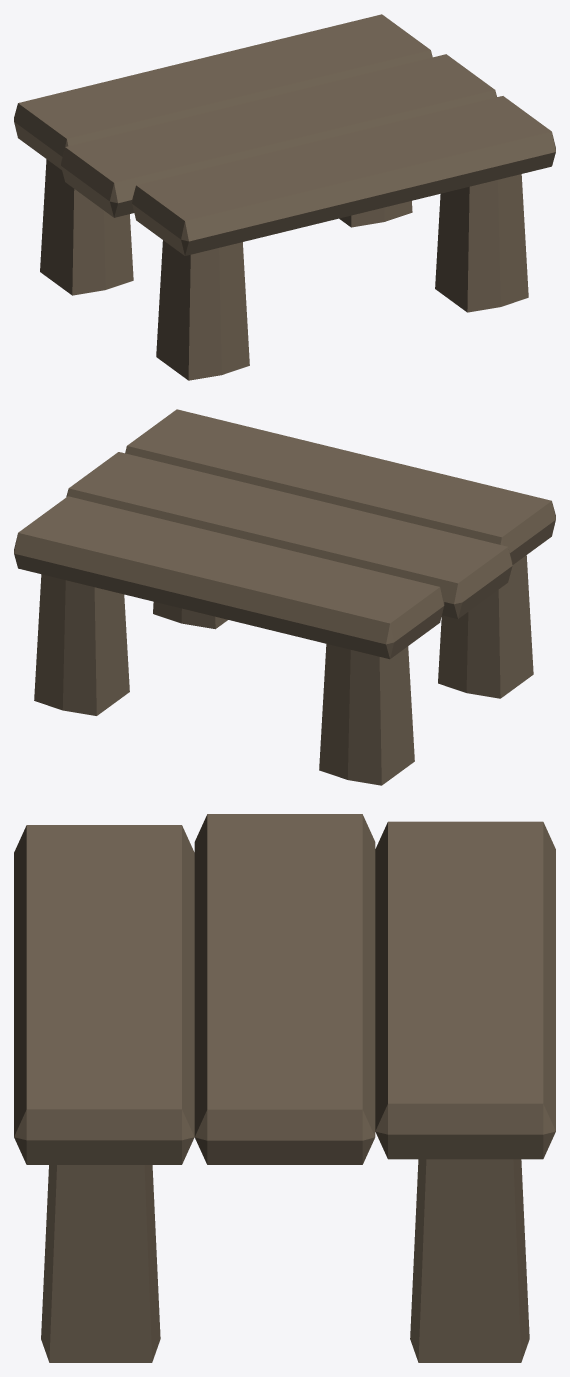
File: TafelRayen.fbx
3 views of the same model, one above another, from view 1: azimuth 30°, elevation 25°; view 2: azimuth 150°, elevation 25°; view 3: azimuth 270°, elevation 25° (orthographic). The views are drawn at different scales.
Parts seen in each view (by area): view 1: polySurface3269; view 2: polySurface3269; view 3: polySurface3269.
Boxes of the visible parts, <box> form: polySurface3269: <box>14,14,555,380</box>; polySurface3269: <box>14,409,555,785</box>; polySurface3269: <box>14,814,555,1362</box>.
Size of the model in its own units: 0.9165 by 0.3798 by 0.6947.
